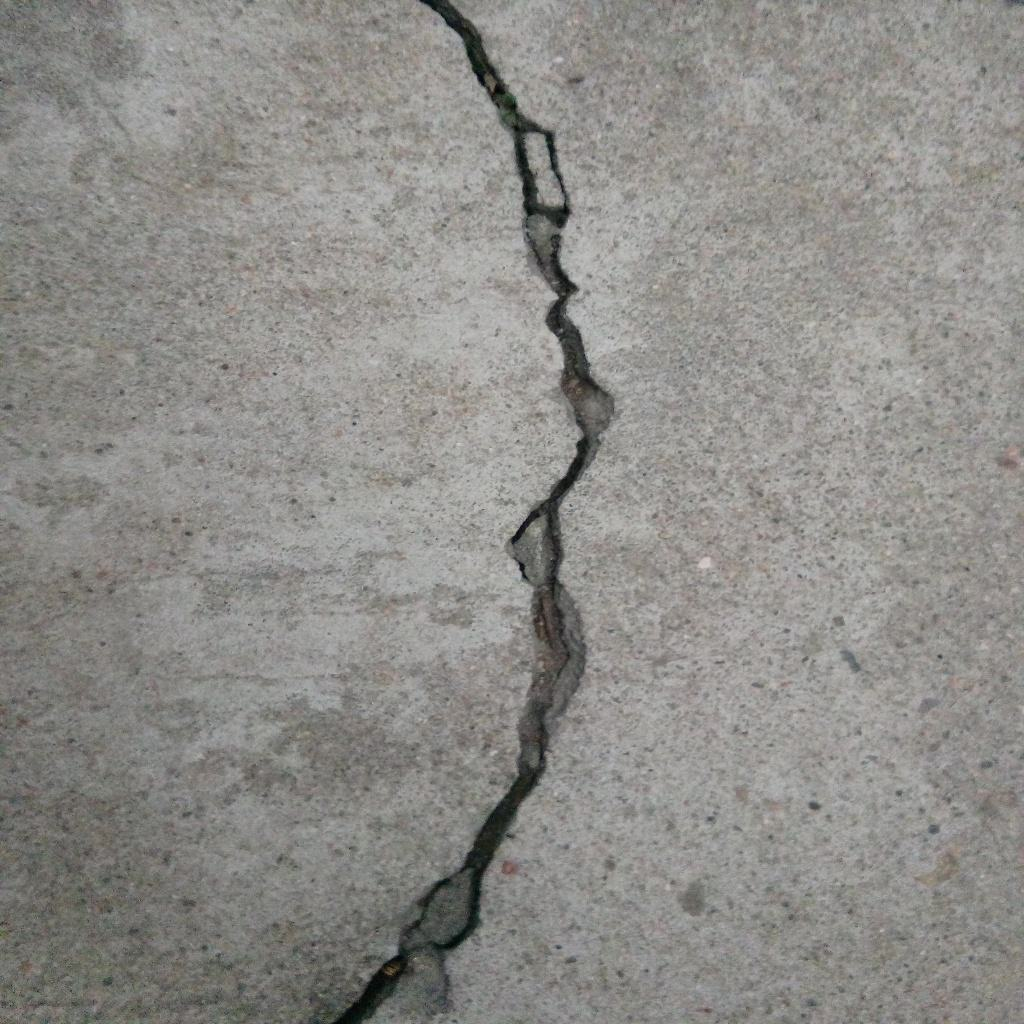Crack: (336, 1, 615, 1024)
